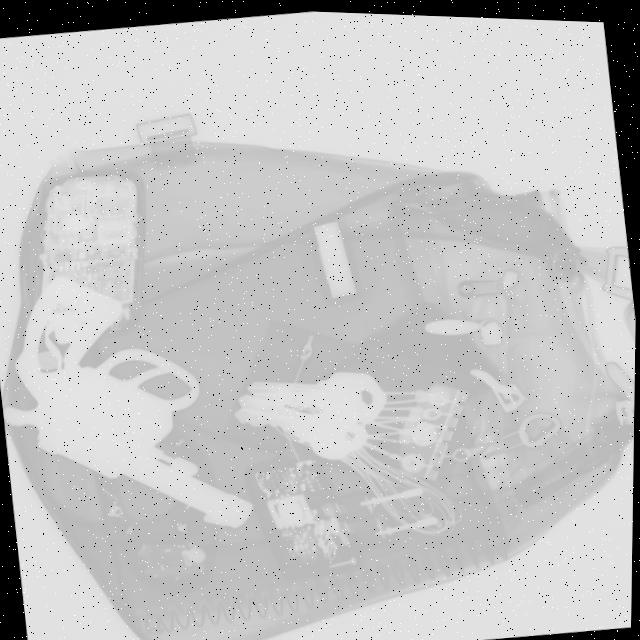pistol: (0, 251, 260, 552)
